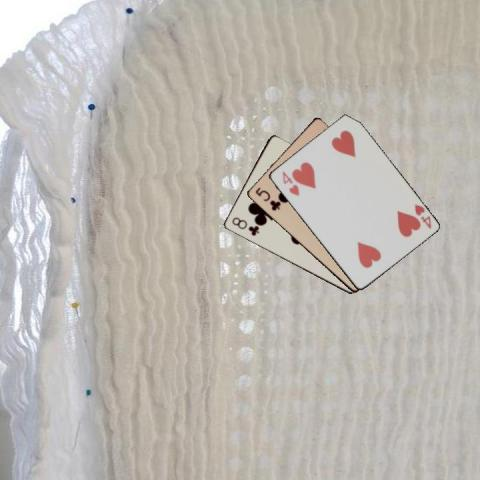4h: (278, 168, 300, 197), (411, 201, 433, 230)
5c: (252, 184, 281, 212)
8c: (229, 214, 260, 237)
